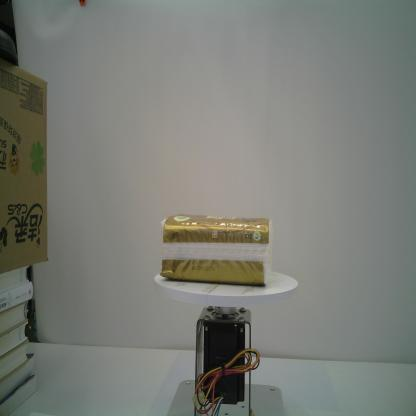Tissue: (159, 213, 275, 286)
